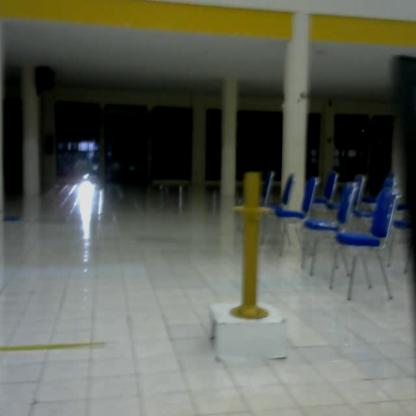pole: (229, 172, 274, 319)
